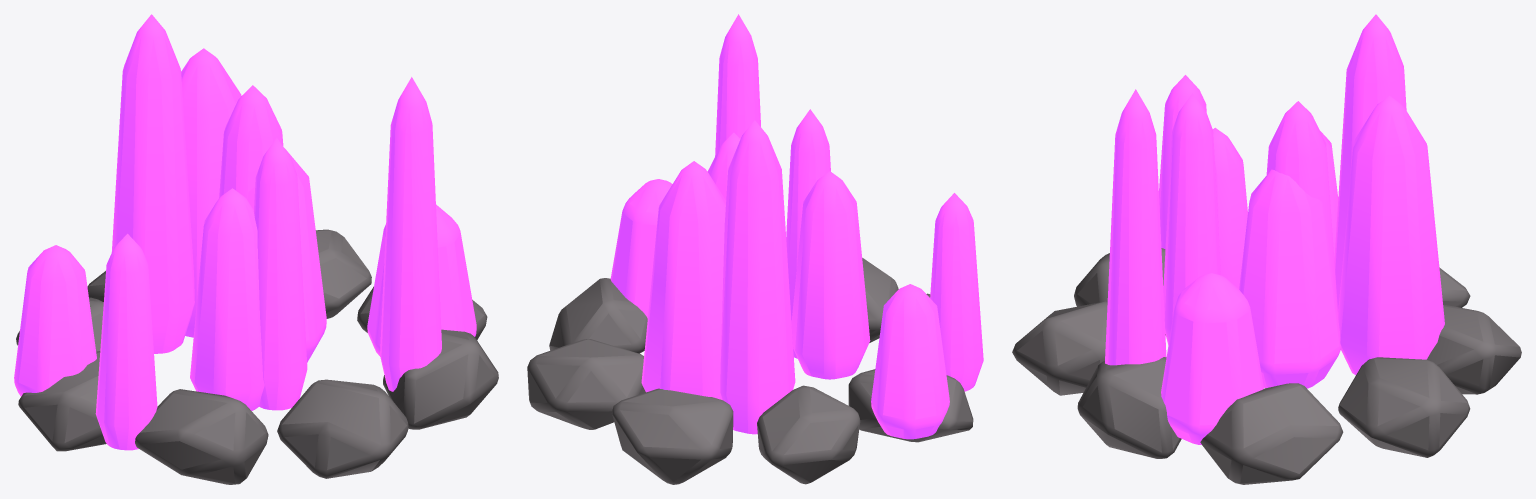
The model's file is soul_crystals.glb.
3 renders of one model, left to right at view 1: azimuth 30°, elevation 25°; view 2: azimuth 150°, elevation 25°; view 3: azimuth 270°, elevation 25°, orthographic. The views are drawn at different scales.
Visible parts, largest first — view 1: SoulCrystal_7, SoulCrystal_3, SoulCrystal_1, SoulCrystal_6, SoulCrystal_9, CrystalBase_2, SoulCrystal_4, CrystalBase_3, SoulCrystal_2, CrystalBase_1, CrystalBase_4, SoulCrystal_8 (+5 smaller); view 2: SoulCrystal_7, SoulCrystal_2, SoulCrystal_1, SoulCrystal_4, CrystalBase_6, CrystalBase_7, SoulCrystal_9, CrystalBase_5, CrystalBase_0, SoulCrystal_8, SoulCrystal_3, SoulCrystal_6 (+3 smaller); view 3: SoulCrystal_2, SoulCrystal_5, SoulCrystal_3, SoulCrystal_8, CrystalBase_0, CrystalBase_7, SoulCrystal_6, CrystalBase_1, SoulCrystal_7, CrystalBase_2, CrystalBase_6, SoulCrystal_10 (+5 smaller).
Part boxes in pixels (x1,y1,x2,y2): SoulCrystal_7: (111,14,194,353); SoulCrystal_3: (380,77,441,391); SoulCrystal_1: (190,188,264,410); SoulCrystal_6: (253,138,307,410); SoulCrystal_9: (95,233,157,450); CrystalBase_2: (277,379,408,478); SoulCrystal_4: (14,245,96,396); CrystalBase_3: (135,389,268,484); SoulCrystal_2: (181,48,241,337); CrystalBase_1: (383,329,498,429); CrystalBase_4: (18,351,106,451); SoulCrystal_8: (367,204,476,356); SoulCrystal_7: (720,120,795,434); SoulCrystal_2: (641,161,726,399); SoulCrystal_1: (791,171,870,379); SoulCrystal_4: (871,284,949,439); CrystalBase_6: (612,388,733,484); CrystalBase_7: (527,339,645,429); SoulCrystal_9: (930,193,983,391); CrystalBase_5: (757,385,860,484); CrystalBase_0: (549,278,647,353); SoulCrystal_8: (610,179,672,318); SoulCrystal_3: (715,14,760,156); SoulCrystal_6: (786,109,830,358); SoulCrystal_2: (1338,96,1444,375); SoulCrystal_5: (1239,169,1340,388); SoulCrystal_3: (1105,89,1166,365); SoulCrystal_8: (1161,273,1263,444); CrystalBase_0: (1200,383,1343,484); CrystalBase_7: (1338,357,1470,457); SoulCrystal_6: (1163,93,1220,344); CrystalBase_1: (1077,357,1181,458); SoulCrystal_7: (1334,14,1406,311); CrystalBase_2: (1012,301,1107,395); CrystalBase_6: (1427,304,1521,394); SoulCrystal_10: (1266,101,1338,316).
Size of the model in its own units: 1.82 by 1.43 by 1.83.
